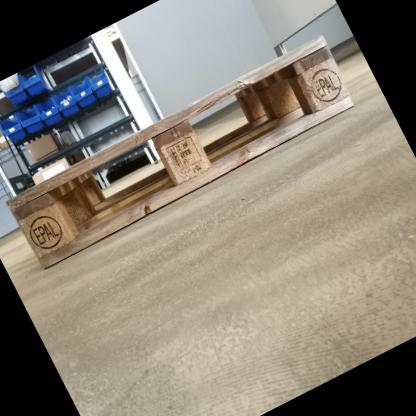BoxFace: (3, 28, 360, 276)
